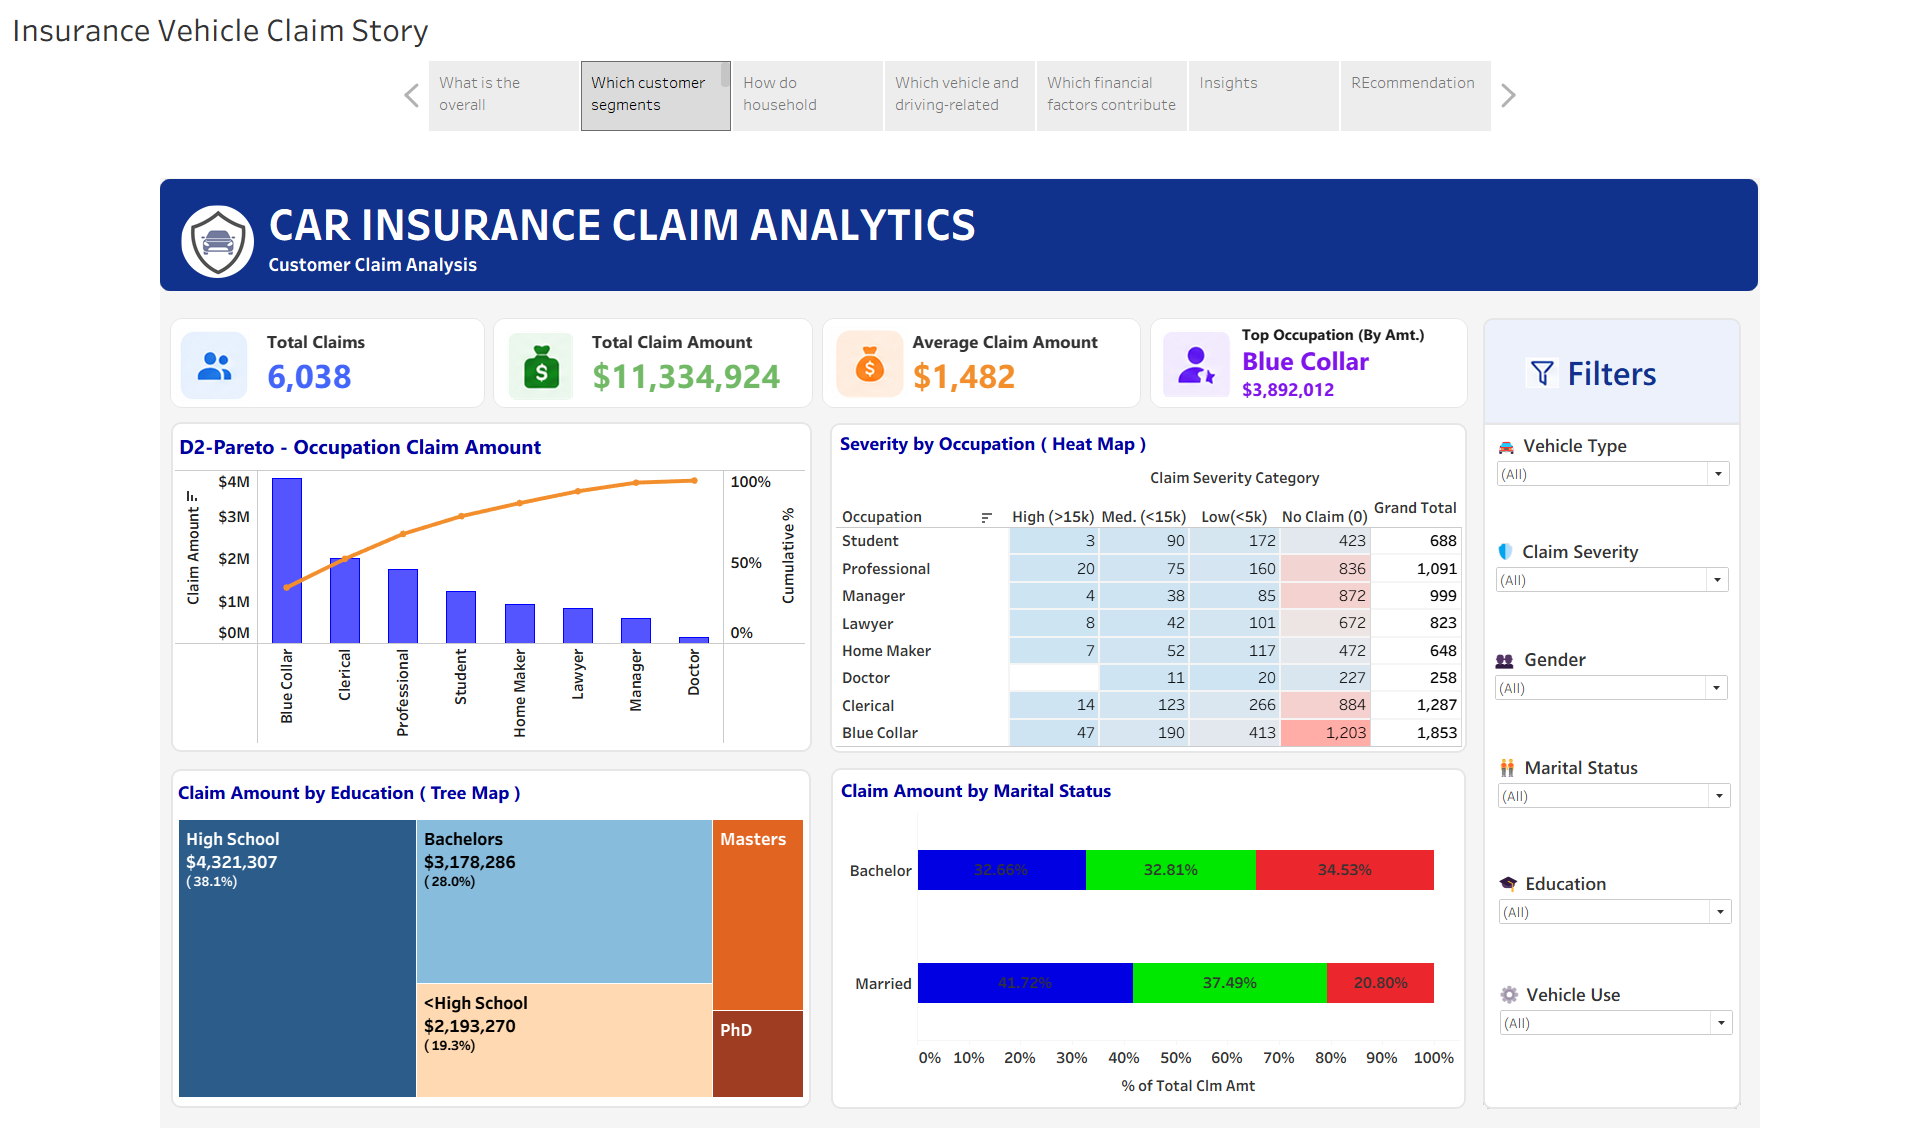

The dashboard page shown, as its layout file describes it:
{"tool":"tableau","page":{"name":"Claim Analysis","canvas":[1600,950],"ordinal":0},"visuals":[{"type":"text","box":[105,4,1075,105]},{"type":"image","param":"C:/Users/Abhi/Downloads/car-protection-shield-icon-vector-22266842.jpg","box":[17,23,81,81]},{"type":"blank","box":[0,130,335,110]},{"type":"blank","box":[323,130,340,110]},{"type":"blank","box":[652,130,339,110]},{"type":"blank","box":[980,130,338,110]},{"type":"text","box":[1323,140,258,107]},{"type":"worksheet","title":"D2- Kpi Top Occupation","mark":"Automatic","box":[1078,144,222,82]},{"type":"worksheet","title":"D2-Kpi-Total Claim","mark":"Automatic","box":[103,145,210,81]},{"type":"worksheet","title":"D2-Kpi-Avg. Claim Amount","mark":"Automatic","box":[748,145,223,81]},{"type":"image","param":"C:/Users/Abhi/Pictures/Screenshots/Screenshot 2026-06-16 110649.png","box":[994,145,85,81]},{"type":"worksheet","title":"D2-Kpi-Total Claim Amount","mark":"Automatic","box":[428,146,216,80]},{"type":"image","param":"C:/Users/Abhi/Pictures/Screenshots/Screenshot 2026-06-12 102710.png","box":[666,147,85,76]},{"type":"image","param":"C:/Users/Abhi/Pictures/Screenshots/Screenshot 2026-06-16 110706.png","box":[342,148,81,79]},{"type":"image","param":"C:/Users/Abhi/Pictures/Screenshots/Screenshot 2026-06-11 130333.png","box":[16,150,73,74]},{"type":"image","param":"C:/Users/Abhi/Pictures/Screenshots/Screenshot 2026-06-15 124445.png","box":[1365,179,34,37]},{"type":"blank","box":[11,244,641,330]},{"type":"blank","box":[670,245,637,330]},{"type":"worksheet","title":"D2-Occupation vs Claim Severity ","mark":"Square","rows":["OCCUPATION"],"cols":["Calculation_1023656399728644"],"box":[675,249,627,320]},{"type":"worksheet","title":"D2-Pareto - Occupation Claim Amount","mark":"Automatic","rows":["CLM_AMT","CLM_AMT"],"cols":["OCCUPATION"],"box":[15,250,631,316]},{"type":"filter","title":"D2- Kpi Top Occupation","param":"[federated.1cwp72307fy7nm1c09t5v07zbwmn].[none:CAR_TYPE:nk]","box":[1334,255,239,57]},{"type":"filter","title":"D2- Kpi Top Occupation","param":"[federated.1cwp72307fy7nm1c09t5v07zbwmn].[none:Calculation_1023656399728644:nk]","box":[1333,361,239,58]},{"type":"filter","title":"D2- Kpi Top Occupation","param":"[federated.1cwp72307fy7nm1c09t5v07zbwmn].[none:GENDER:nk]","box":[1332,468,239,57]},{"type":"filter","title":"D2- Kpi Top Occupation","param":"[federated.1cwp72307fy7nm1c09t5v07zbwmn].[none:MSTATUS:nk]","box":[1335,577,239,58]},{"type":"blank","box":[671,590,635,341]},{"type":"blank","box":[11,591,640,339]},{"type":"worksheet","title":"D2-Claim Amt. by MaritalStat.","mark":"Automatic","rows":["MSTATUS"],"box":[677,596,623,329]},{"type":"worksheet","title":"D2-Claim Amount by Education","mark":"Automatic","box":[14,598,633,325]},{"type":"filter","title":"D2- Kpi Top Occupation","param":"[federated.1cwp72307fy7nm1c09t5v07zbwmn].[none:EDUCATION:nk]","box":[1336,693,239,59]},{"type":"filter","title":"D2- Kpi Top Occupation","param":"[federated.1cwp72307fy7nm1c09t5v07zbwmn].[none:CAR_USE:nk]","box":[1337,804,239,57]}]}

Visuals, with their boxes in screenshot pixels (x1, y1, x2, y2), scaled from the page's 1600x950 canvas onto the 1917x1148 screenshot:
text: <box>126,5,1414,132</box>
image: <box>20,28,117,126</box>
blank: <box>0,157,401,290</box>
blank: <box>387,157,794,290</box>
blank: <box>781,157,1187,290</box>
blank: <box>1174,157,1579,290</box>
text: <box>1585,169,1894,298</box>
"D2- Kpi Top Occupation" worksheet: <box>1292,174,1558,273</box>
"D2-Kpi-Total Claim" worksheet: <box>123,175,375,273</box>
"D2-Kpi-Avg. Claim Amount" worksheet: <box>896,175,1163,273</box>
image: <box>1191,175,1293,273</box>
"D2-Kpi-Total Claim Amount" worksheet: <box>513,176,772,273</box>
image: <box>798,178,900,269</box>
image: <box>410,179,507,274</box>
image: <box>19,181,107,271</box>
image: <box>1635,216,1676,261</box>
blank: <box>13,295,781,694</box>
blank: <box>803,296,1566,695</box>
"D2-Occupation vs Claim Severity " worksheet (Square marks): <box>809,301,1560,688</box>
"D2-Pareto - Occupation Claim Amount" worksheet: <box>18,302,774,684</box>
"D2- Kpi Top Occupation" filter: <box>1598,308,1885,377</box>
"D2- Kpi Top Occupation" filter: <box>1597,436,1883,506</box>
"D2- Kpi Top Occupation" filter: <box>1596,566,1882,634</box>
"D2- Kpi Top Occupation" filter: <box>1599,697,1886,767</box>
blank: <box>804,713,1565,1125</box>
blank: <box>13,714,780,1124</box>
"D2-Claim Amt. by MaritalStat." worksheet: <box>811,720,1558,1118</box>
"D2-Claim Amount by Education" worksheet: <box>17,723,775,1115</box>
"D2- Kpi Top Occupation" filter: <box>1601,837,1887,909</box>
"D2- Kpi Top Occupation" filter: <box>1602,972,1888,1040</box>
